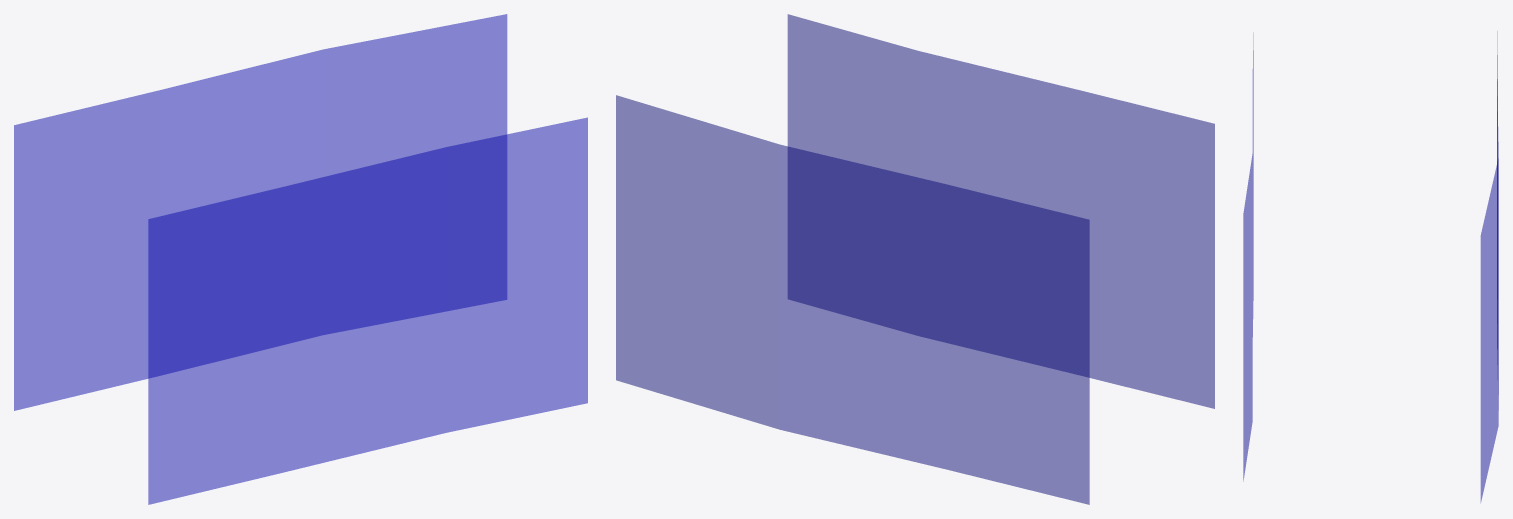
The model's file is track_military_coll_wall_09.fbx.
3 views of the same model, side by side, from view 1: azimuth 30°, elevation 25°; view 2: azimuth 150°, elevation 25°; view 3: azimuth 270°, elevation 25° (orthographic). The views are drawn at different scales.
Parts seen in each view (by area): view 1: track_military_coll_wall_09; view 2: track_military_coll_wall_09; view 3: track_military_coll_wall_09.
Part boxes in pixels (x1,y1,x2,y2): track_military_coll_wall_09: [14, 14, 587, 504]; track_military_coll_wall_09: [616, 14, 1214, 504]; track_military_coll_wall_09: [1243, 31, 1498, 502].
Size of the model in its own units: 56.19 by 31.71 by 27.32.
